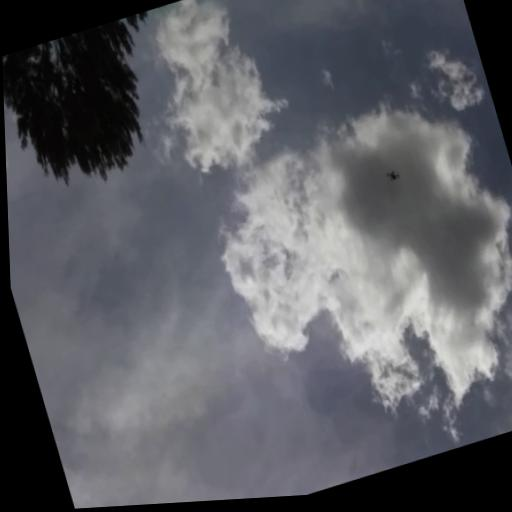drones: (382, 162, 404, 189)
